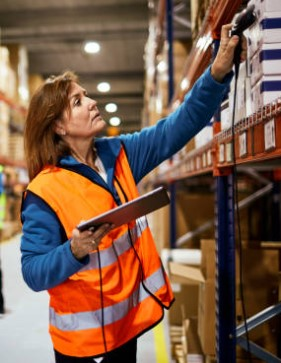worker: (22, 73, 175, 356)
